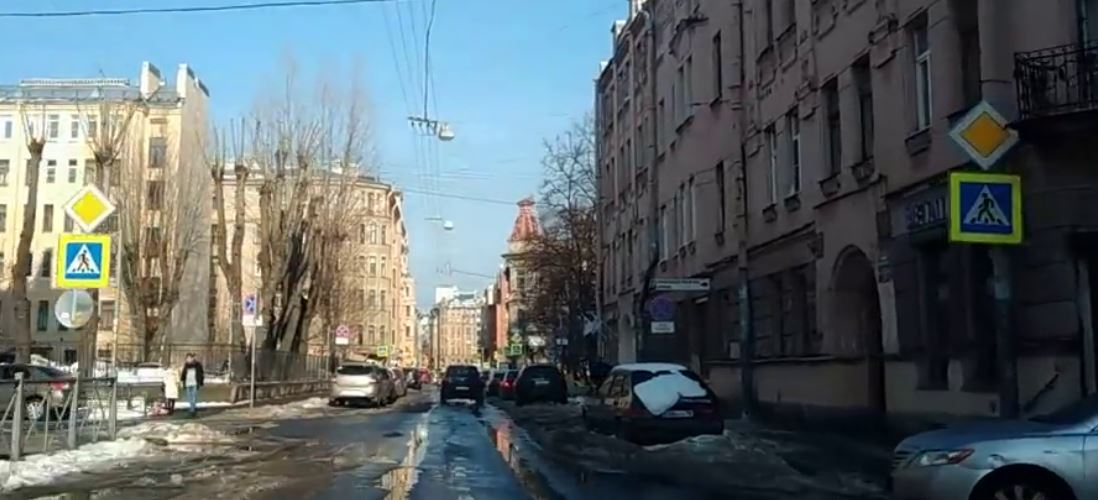Yaya Gecidi: (958, 181, 1013, 232), (62, 243, 104, 280)
